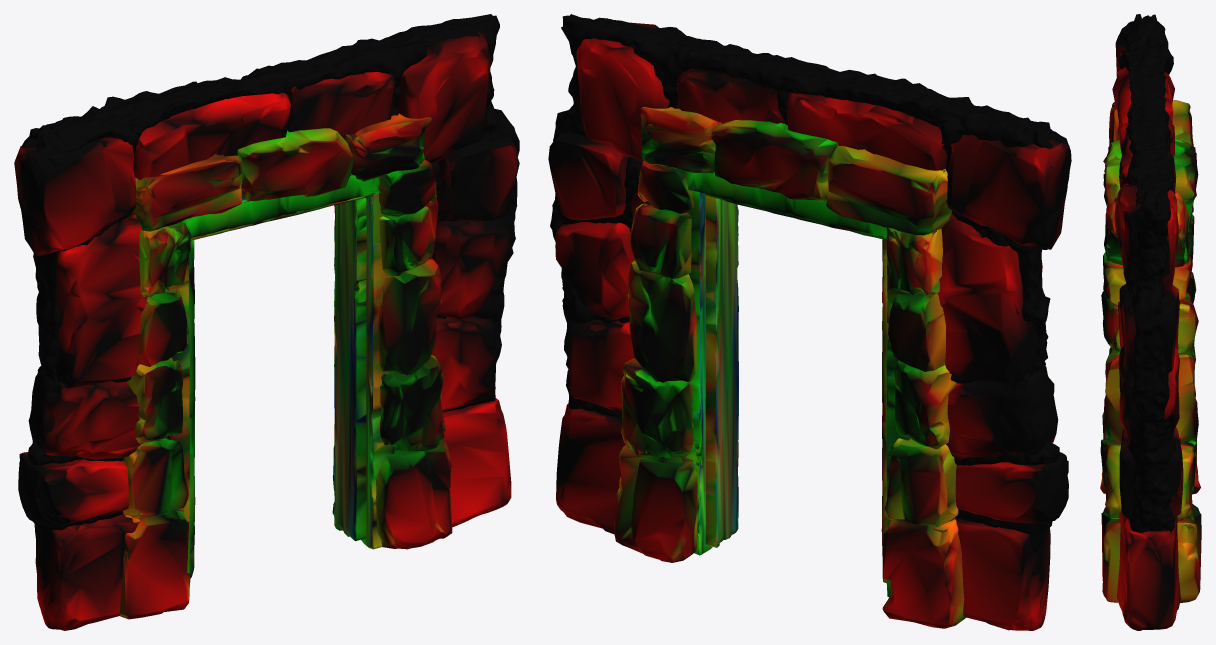
Rendered from SM_Stone_Doorway.fbx.
3 views of the same model, side by side, from view 1: azimuth 30°, elevation 25°; view 2: azimuth 150°, elevation 25°; view 3: azimuth 270°, elevation 25° (orthographic). The views are drawn at different scales.
Visible parts, largest first — view 1: SM_Stone_Doorway_LOD0; view 2: SM_Stone_Doorway_LOD0; view 3: SM_Stone_Doorway_LOD0.
Part boxes in pixels (x1=…): SM_Stone_Doorway_LOD0: x1=14, y1=14, x2=519, y2=630; SM_Stone_Doorway_LOD0: x1=548, y1=14, x2=1071, y2=630; SM_Stone_Doorway_LOD0: x1=1100, y1=14, x2=1201, y2=630.
Bounding box in the file's own units: 326 × 65.94 × 314.
